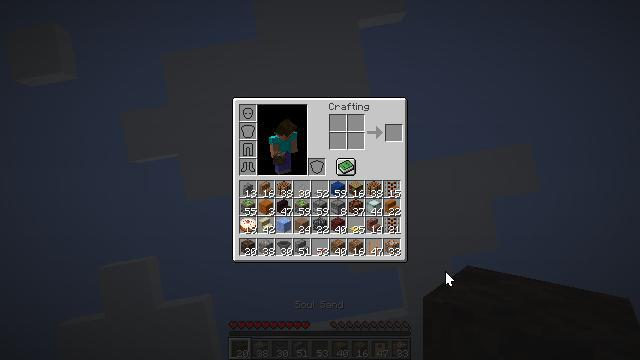cursor: (445, 271, 455, 287)
